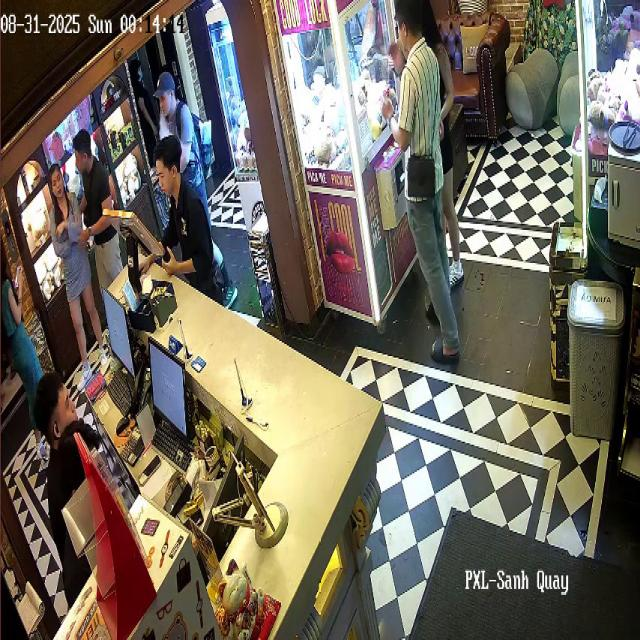khach: (388, 0, 462, 372), (47, 160, 95, 355), (435, 6, 468, 284), (75, 127, 125, 293), (1, 238, 34, 420), (154, 66, 200, 142)
nhan vien: (152, 140, 210, 301), (30, 362, 80, 449), (56, 416, 97, 521), (131, 62, 151, 136)
